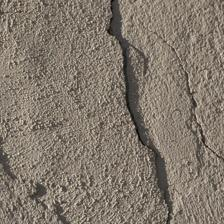Crack: (0, 9, 169, 144), (83, 137, 192, 224)
